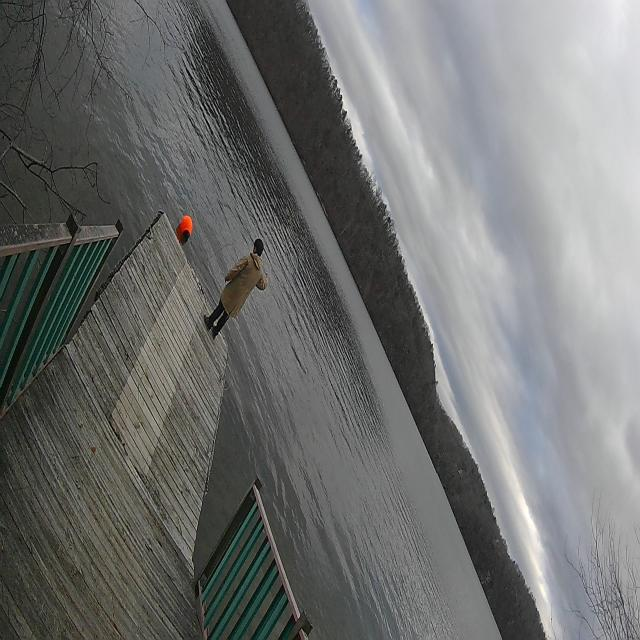Buoy: (180, 214, 193, 242)
